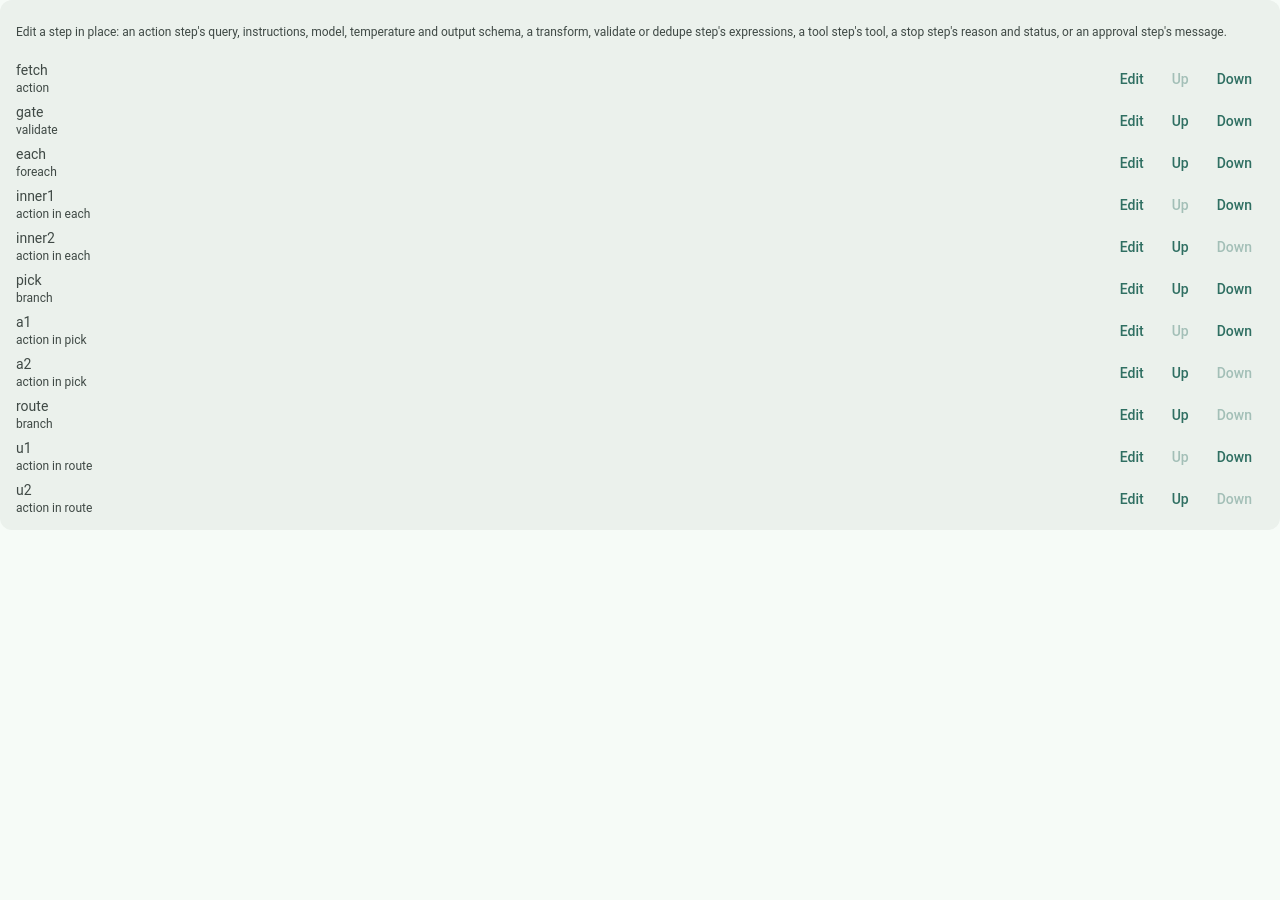
Test: StepsPanel move › shows a refused move in words and leaves the row alone
Click the button with aria-label "Move step fetch down". click: {"x": 1234, "y": 79}
box: [1205,61,1264,97]
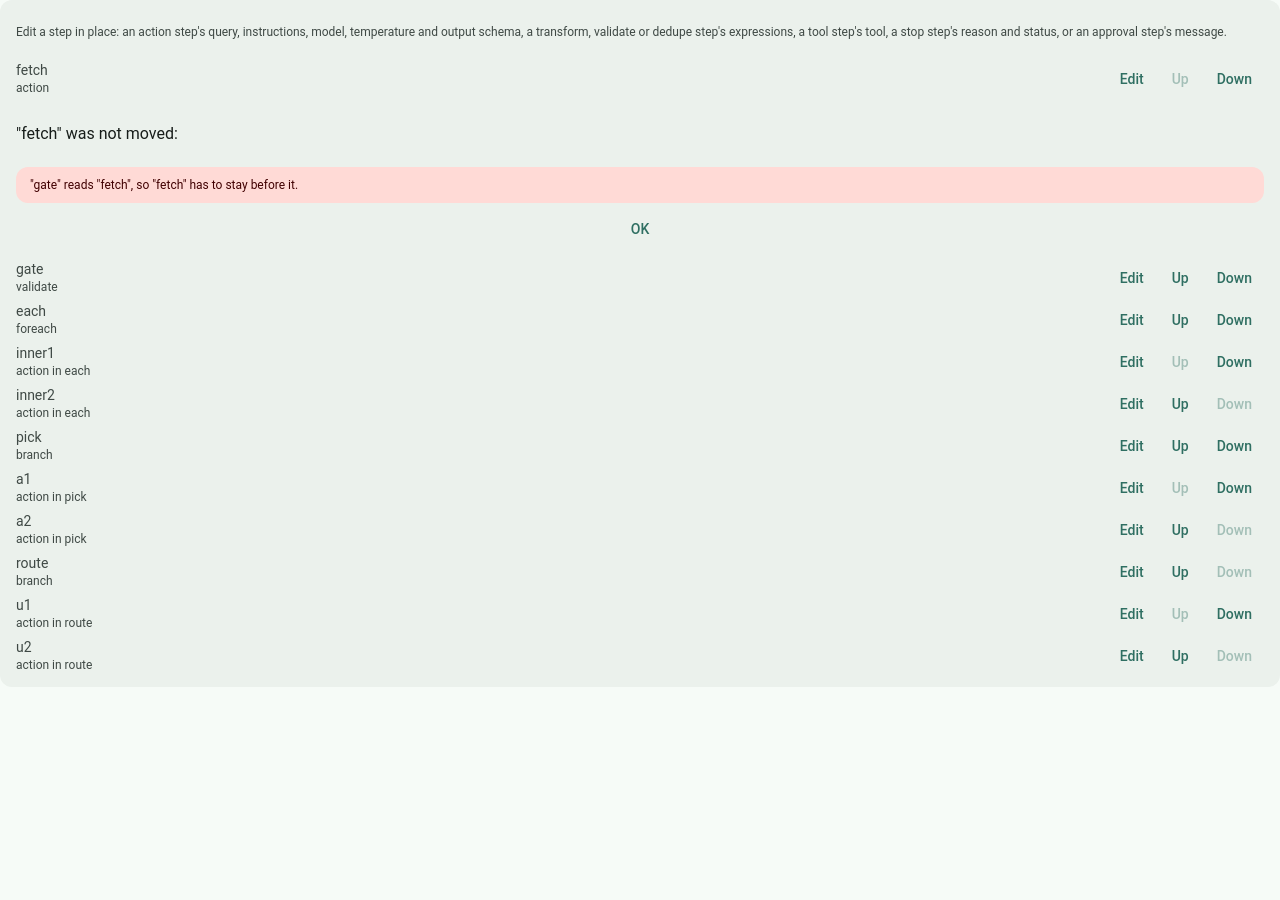
Now the message shows "\"fetch\" was not moved", box [16,100,1264,255]
Now the message shows "\"gate\" reads \"fetch\", so \"fetch\" has to stay before it.", box [30,178,298,192]
Click the button "OK". click: {"x": 640, "y": 229}
box: [16,211,1264,247]
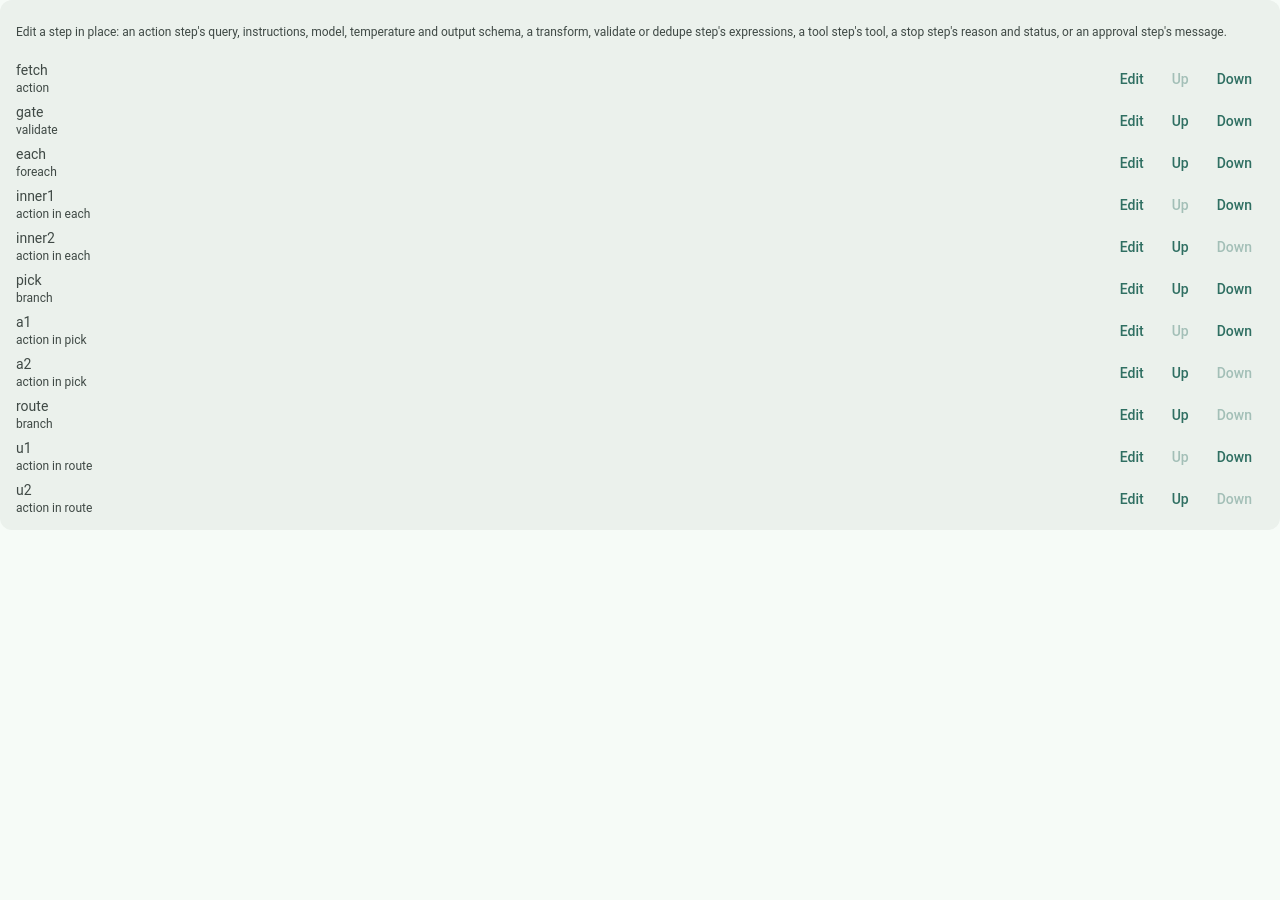
Now the message is gone
